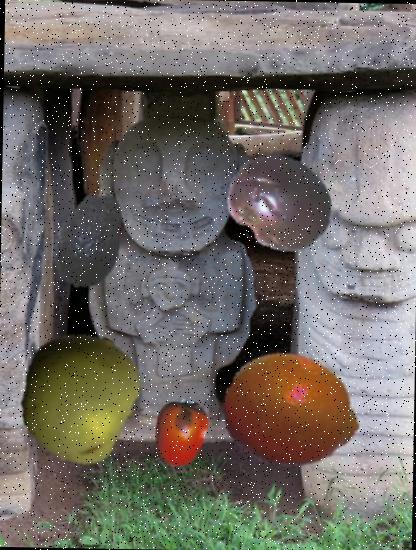Apple: (15, 332, 147, 464)
Avocado: (38, 189, 140, 290)
Kaki: (145, 398, 214, 468)
Passion: (223, 146, 334, 257)
Tangelo: (222, 340, 362, 480)
